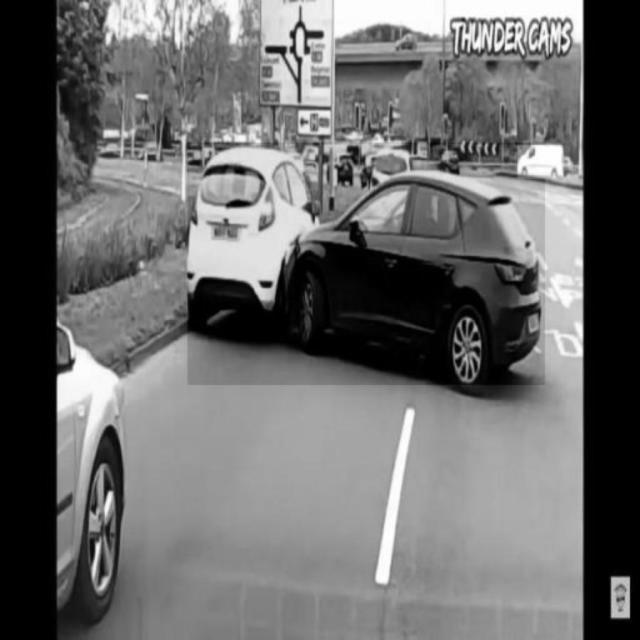accident: (188, 143, 545, 385)
vehicle: (517, 145, 571, 179)
